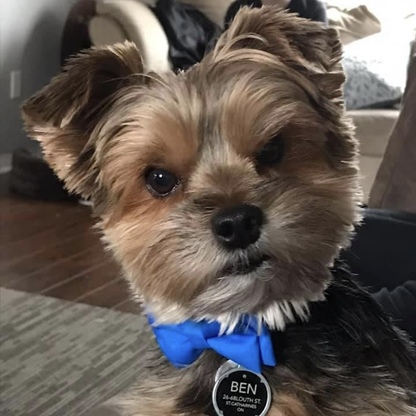yorkshire: (18, 5, 364, 334)
